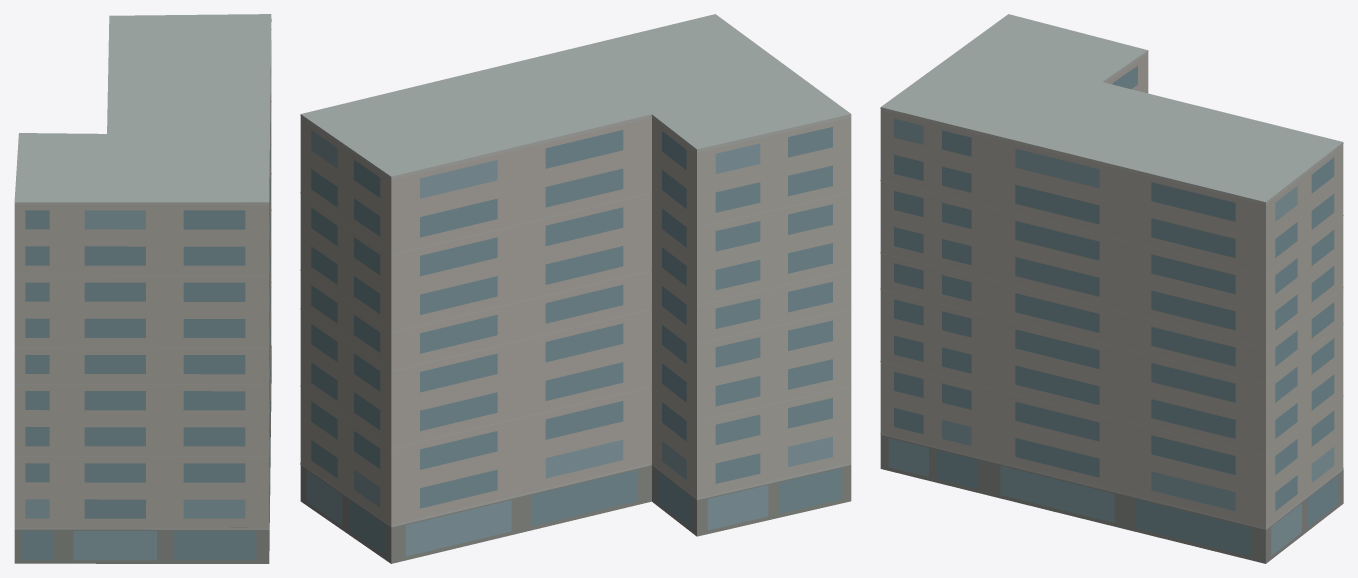
Rendered from survey-upis-33022346.glb.
3 views of the same model, side by side, from view 1: azimuth 30°, elevation 25°; view 2: azimuth 150°, elevation 25°; view 3: azimuth 270°, elevation 25° (orthographic). The views are drawn at different scales.
Visible parts, largest first — view 1: survey-upis-33022346.tmp; view 2: survey-upis-33022346.tmp; view 3: survey-upis-33022346.tmp.
Part boxes in pixels (box(x1,y1,x2,y2)): survey-upis-33022346.tmp: box(14, 14, 271, 563); survey-upis-33022346.tmp: box(300, 14, 851, 563); survey-upis-33022346.tmp: box(880, 14, 1343, 563).
Size of the model in its own units: 31.11 by 27.85 by 32.32.
